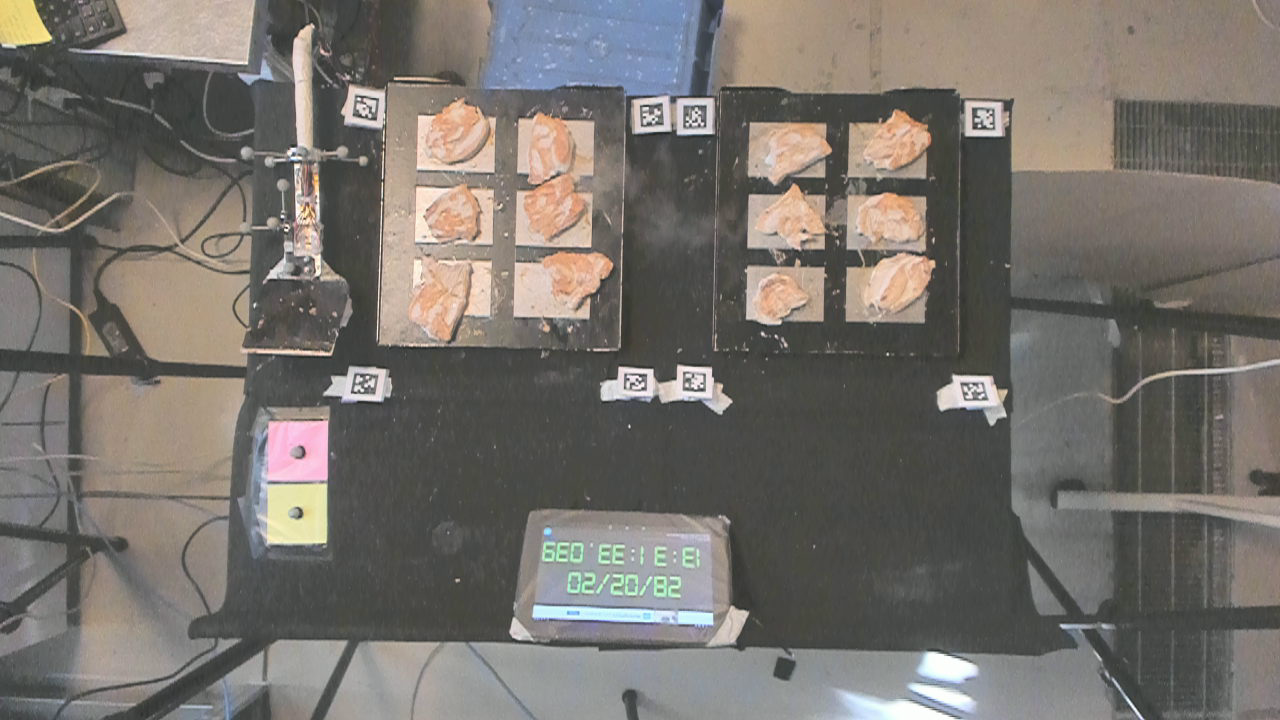chicken: (409, 254, 473, 345), (759, 183, 828, 250), (864, 106, 935, 171), (768, 118, 833, 185), (866, 253, 934, 314), (541, 250, 611, 308), (424, 176, 484, 243), (524, 177, 585, 240), (855, 192, 929, 242), (528, 112, 576, 184), (426, 106, 486, 162), (750, 277, 810, 324)
marker: (268, 419, 329, 480)
